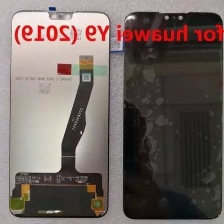phone: (6, 7, 113, 221), (119, 8, 224, 221)
